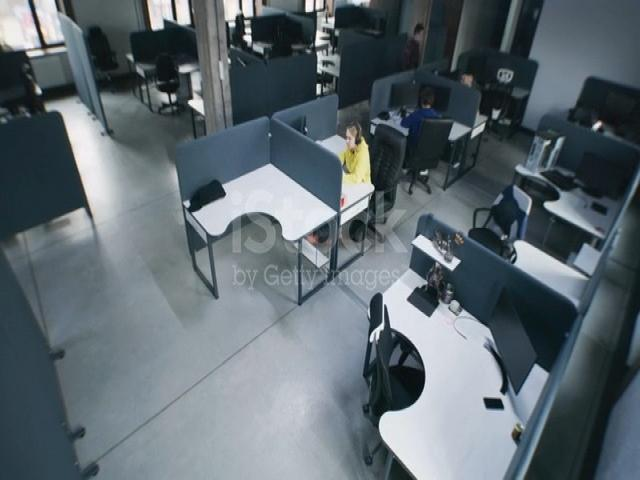EMPTY_CHAIR: (342, 278, 412, 454), (466, 176, 530, 264), (143, 40, 204, 125), (299, 24, 343, 109), (78, 14, 124, 91), (18, 50, 54, 106)
PERSON_IN_CHAIR: (342, 108, 407, 244), (403, 70, 441, 190), (454, 54, 484, 180), (571, 101, 620, 133)
